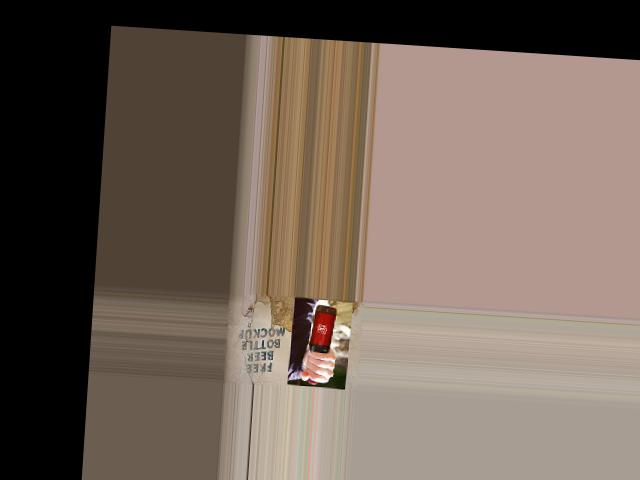beer: (307, 304, 336, 385)
